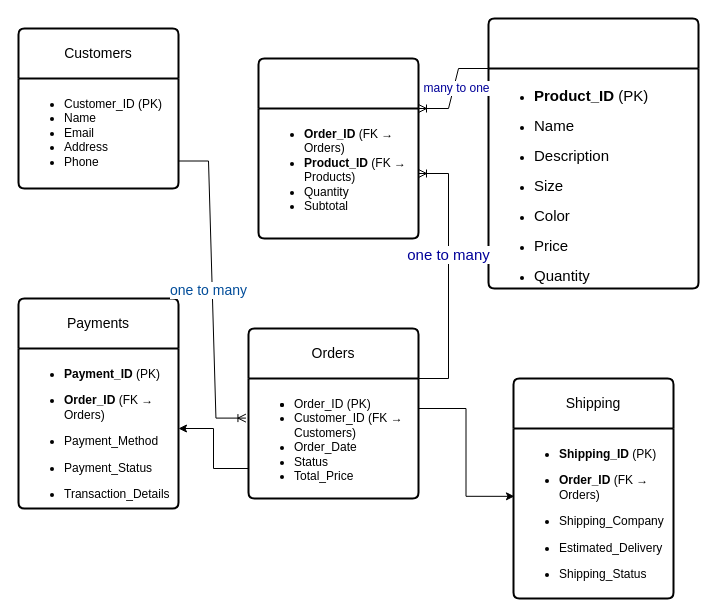
This 716x616 diagram has some shape labels left out. The shapes that lost their labels are listed below. From the top down, each one's box as (x1, y1, x2, y2) in pixels, then its label:
(257, 57, 419, 239): Order_Items
(487, 17, 699, 289): Products
